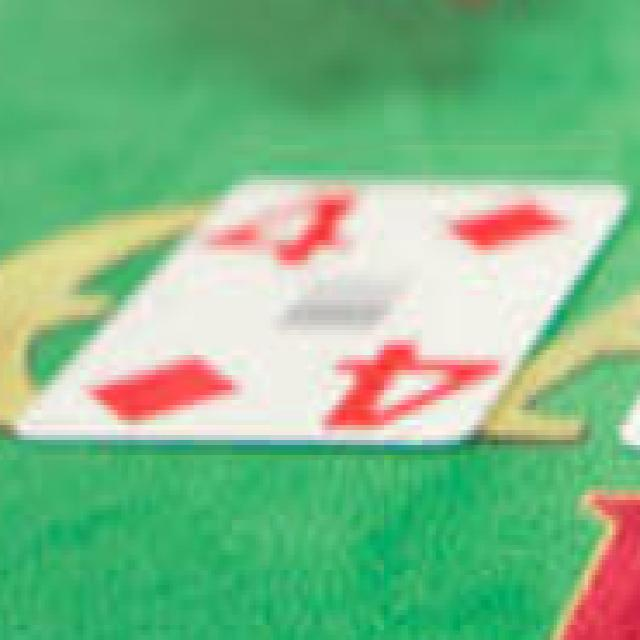Card-4: (17, 177, 624, 438)
